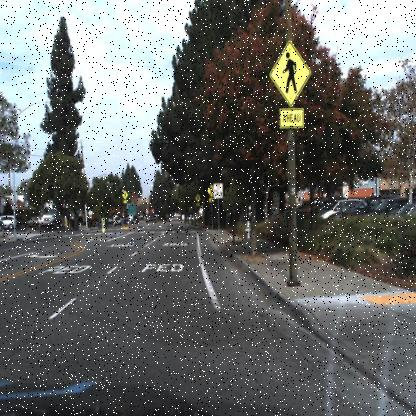car: (320, 193, 368, 222), (317, 196, 345, 227), (350, 196, 384, 218), (22, 216, 41, 232)
truck: (37, 199, 57, 228)
